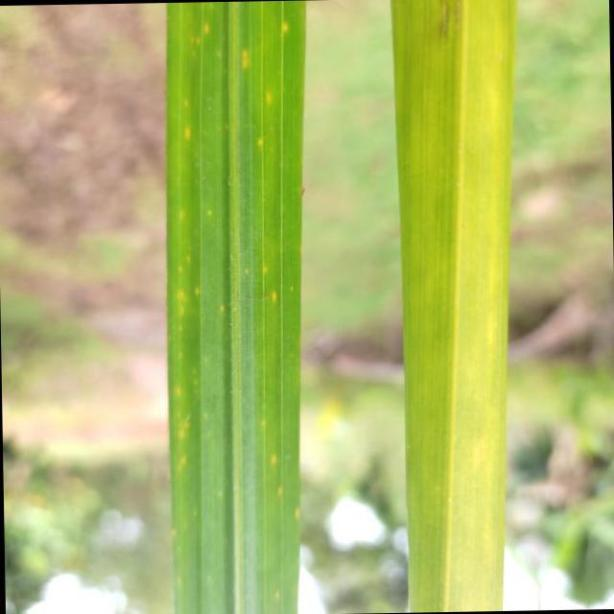nitrogen: (157, 0, 302, 614), (392, 0, 500, 614)
